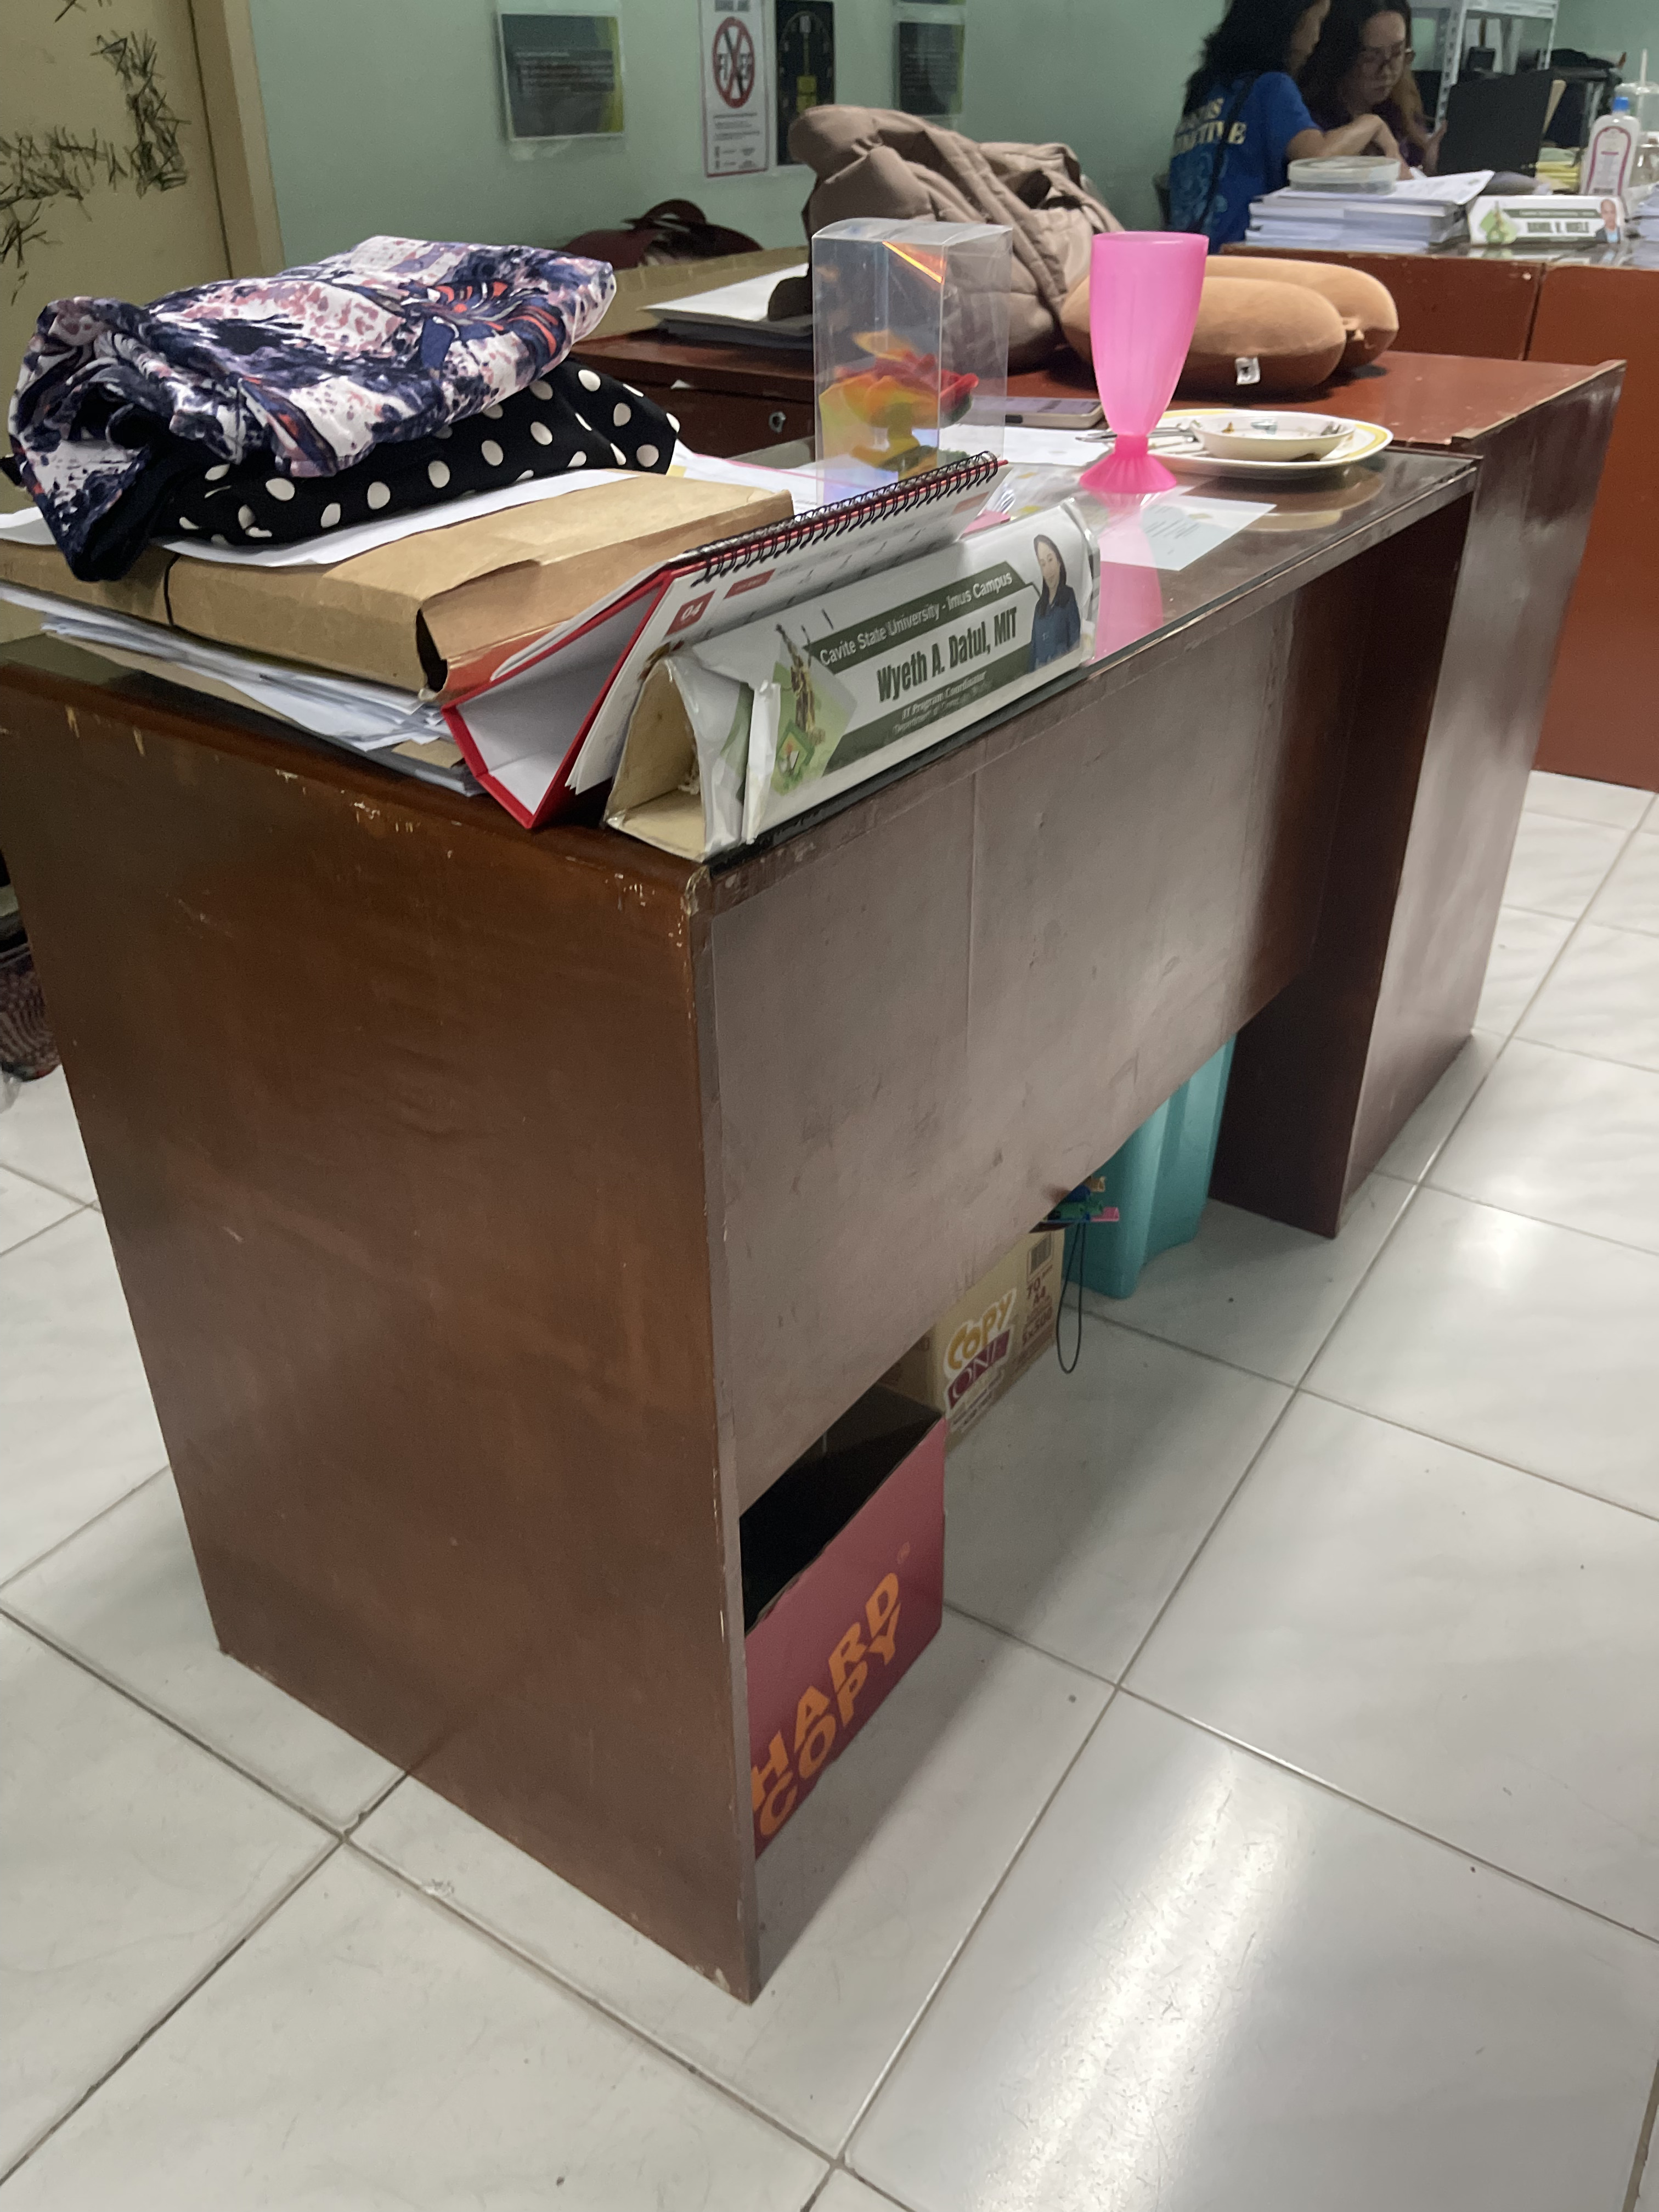table2: (24, 249, 1649, 2022)
